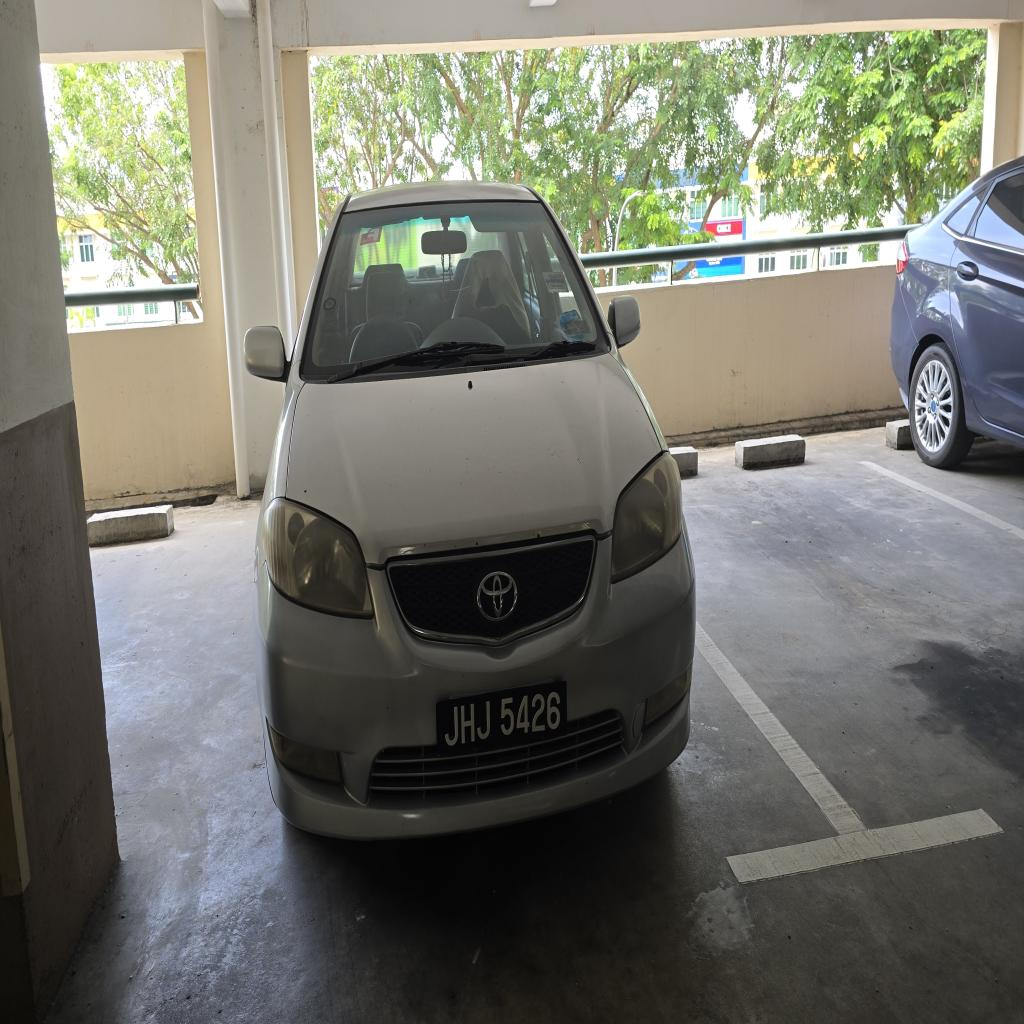car: (246, 183, 695, 837)
car plate: (436, 682, 566, 752)
